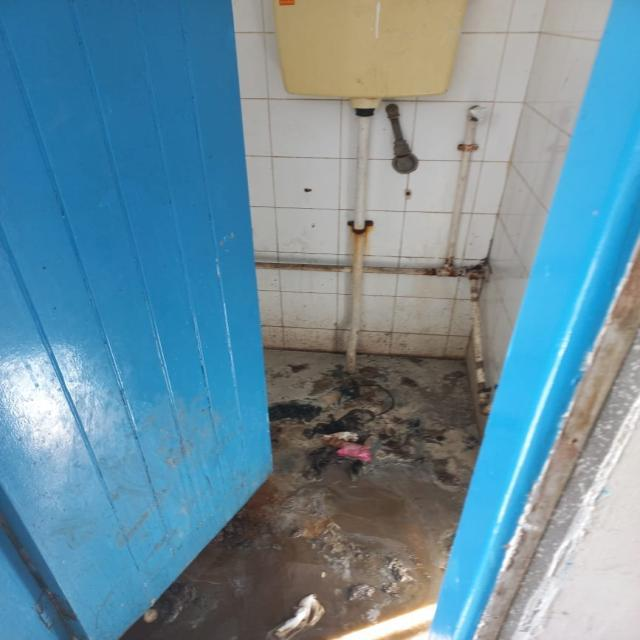dirty_floor: (2, 0, 637, 638), (231, 0, 615, 388), (118, 344, 487, 638)
